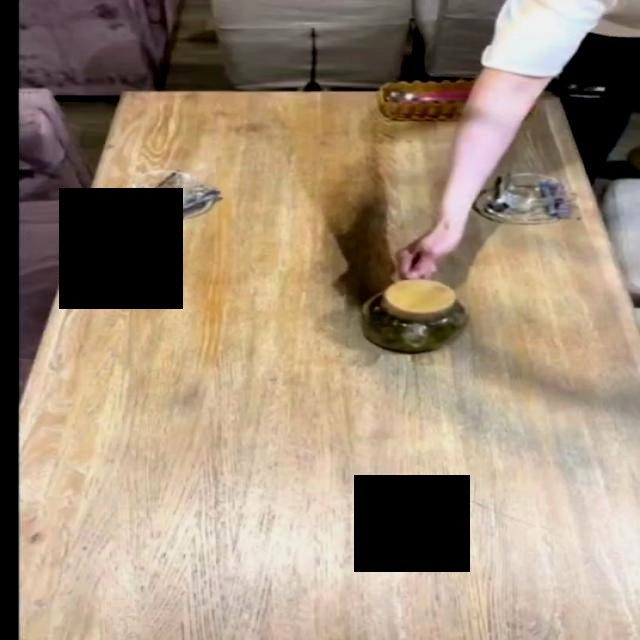tea: (362, 273, 487, 361)
